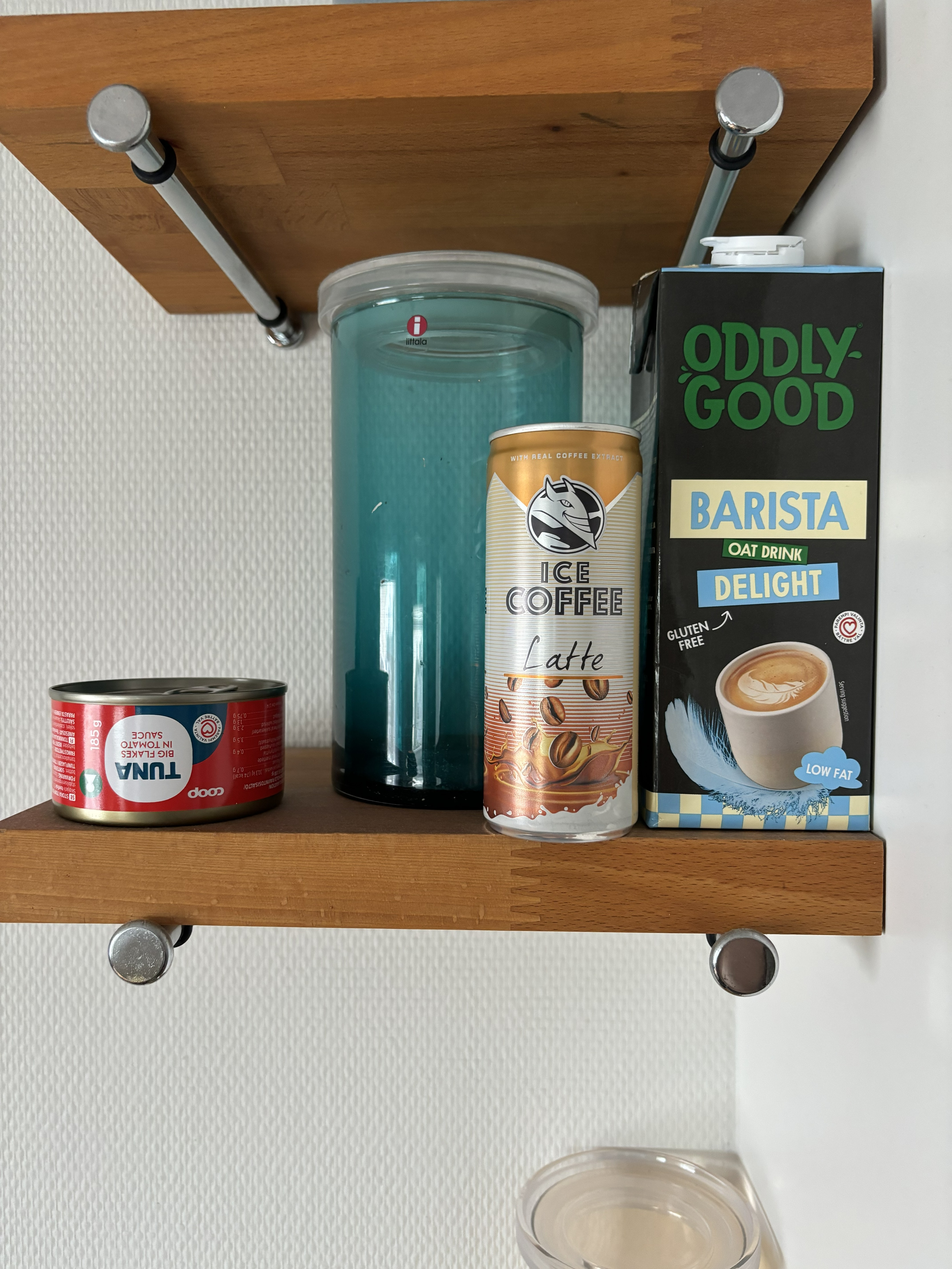Dryckeskartong: (634, 233, 890, 833)
Konservburk: (50, 673, 287, 835)
Pantburk: (478, 420, 644, 843)
